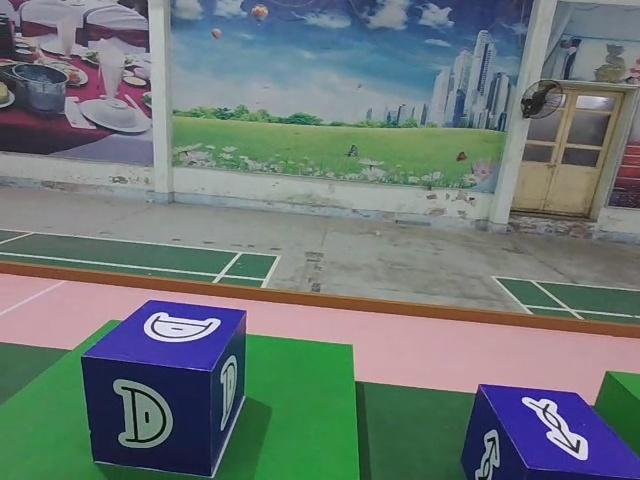R2 Real Blue: (81, 293, 251, 478), (461, 385, 637, 480)
